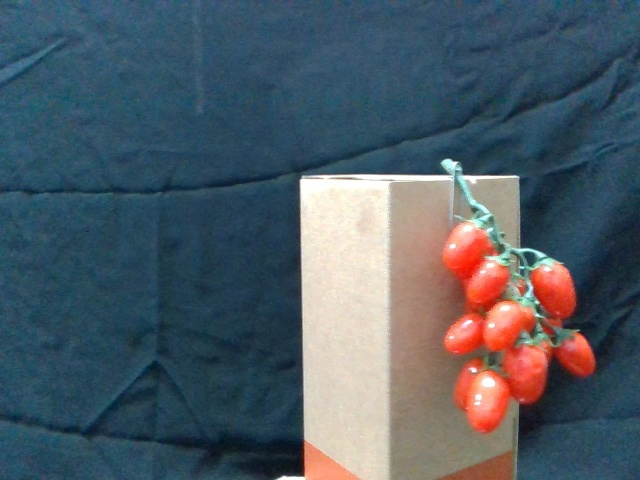tomato: (530, 255, 577, 317), (466, 368, 509, 433), (443, 215, 492, 269), (509, 340, 547, 402), (486, 297, 530, 350), (554, 326, 597, 379), (468, 254, 512, 305), (444, 312, 485, 356)
